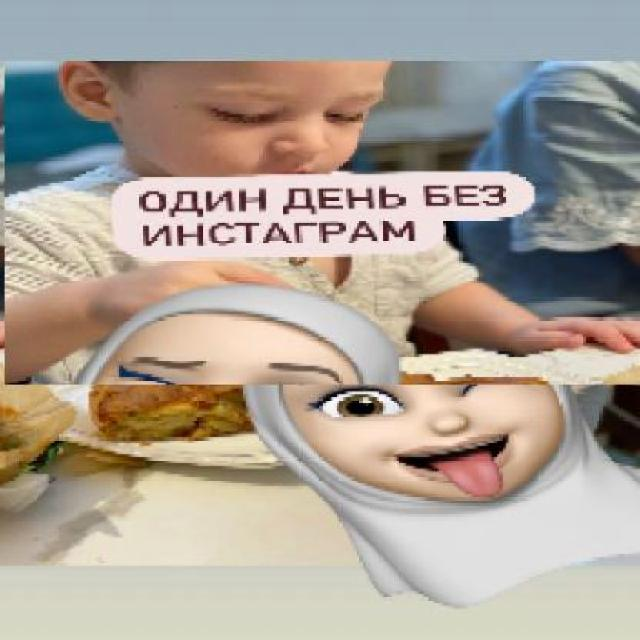child: (3, 60, 640, 386)
